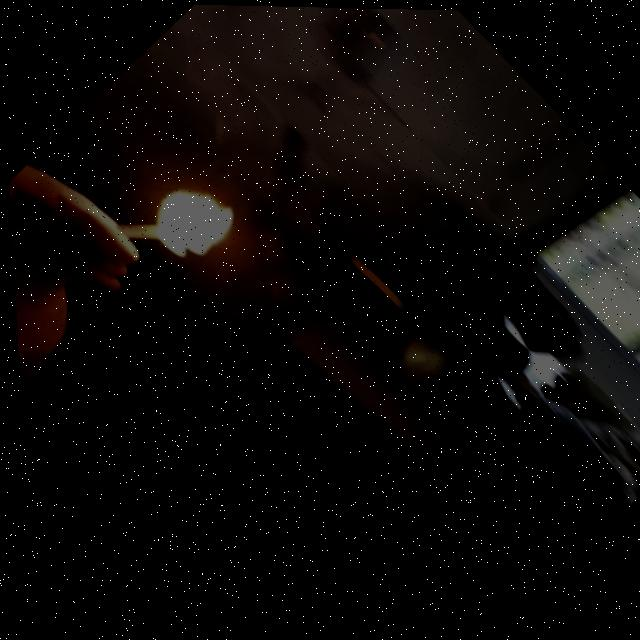Fire: (124, 162, 247, 281)
